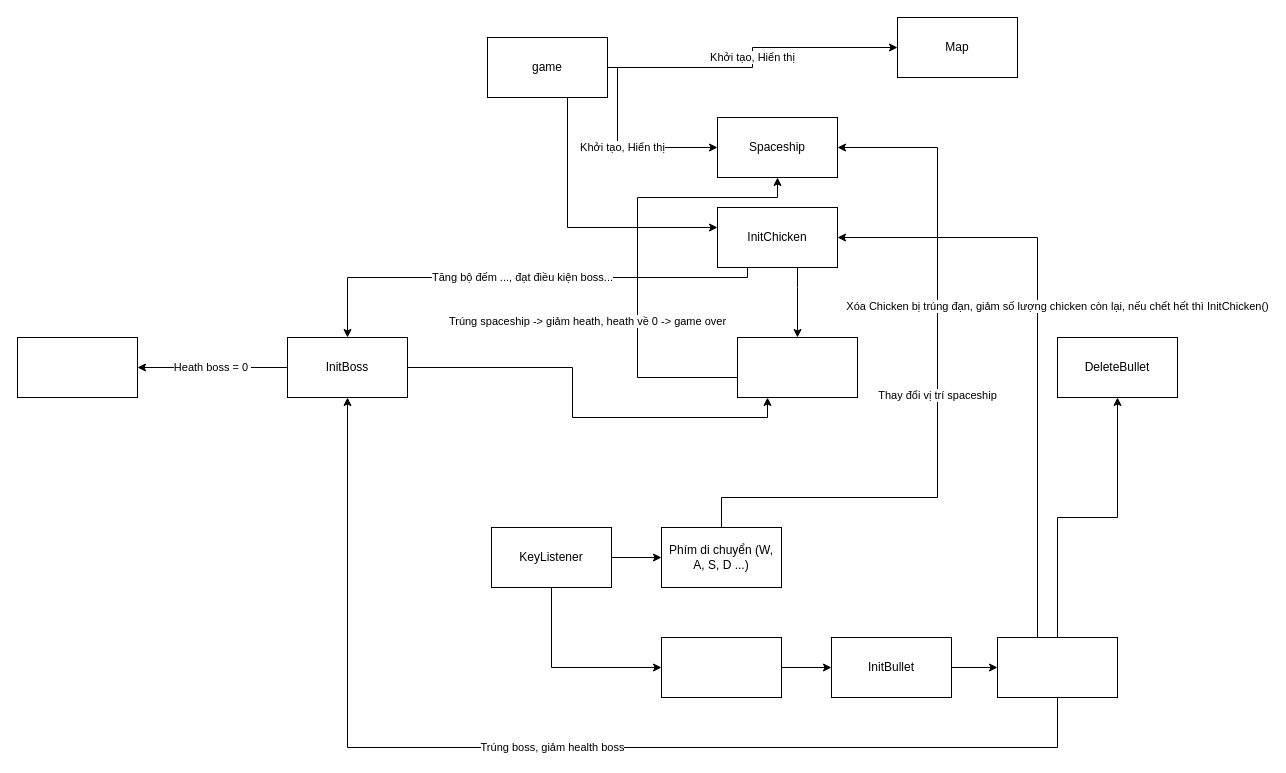
This 1286x773 diagram has some shape labels left out. Here are the shapes that lost their labels. From the top down, the centre of each, then its label:
At point (77, 367): "Win".
At point (797, 367): "Egg".
At point (721, 667): "Bắn".
At point (1057, 667): "Xử lý va chạm ... chicken".
